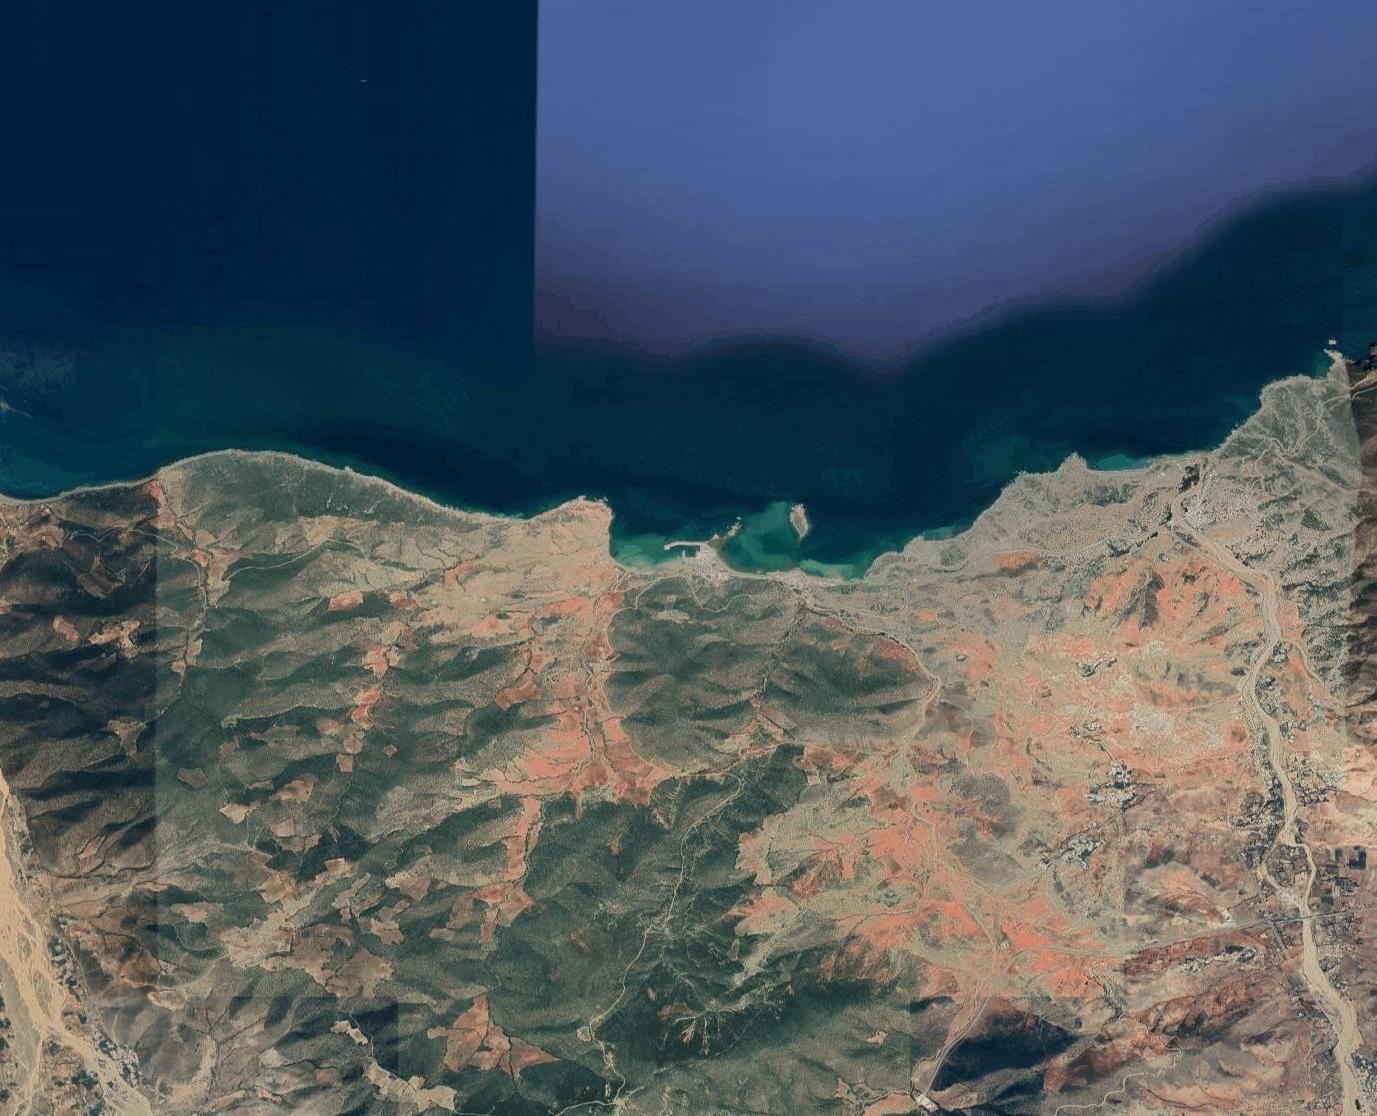harbor: (661, 533, 713, 566)
